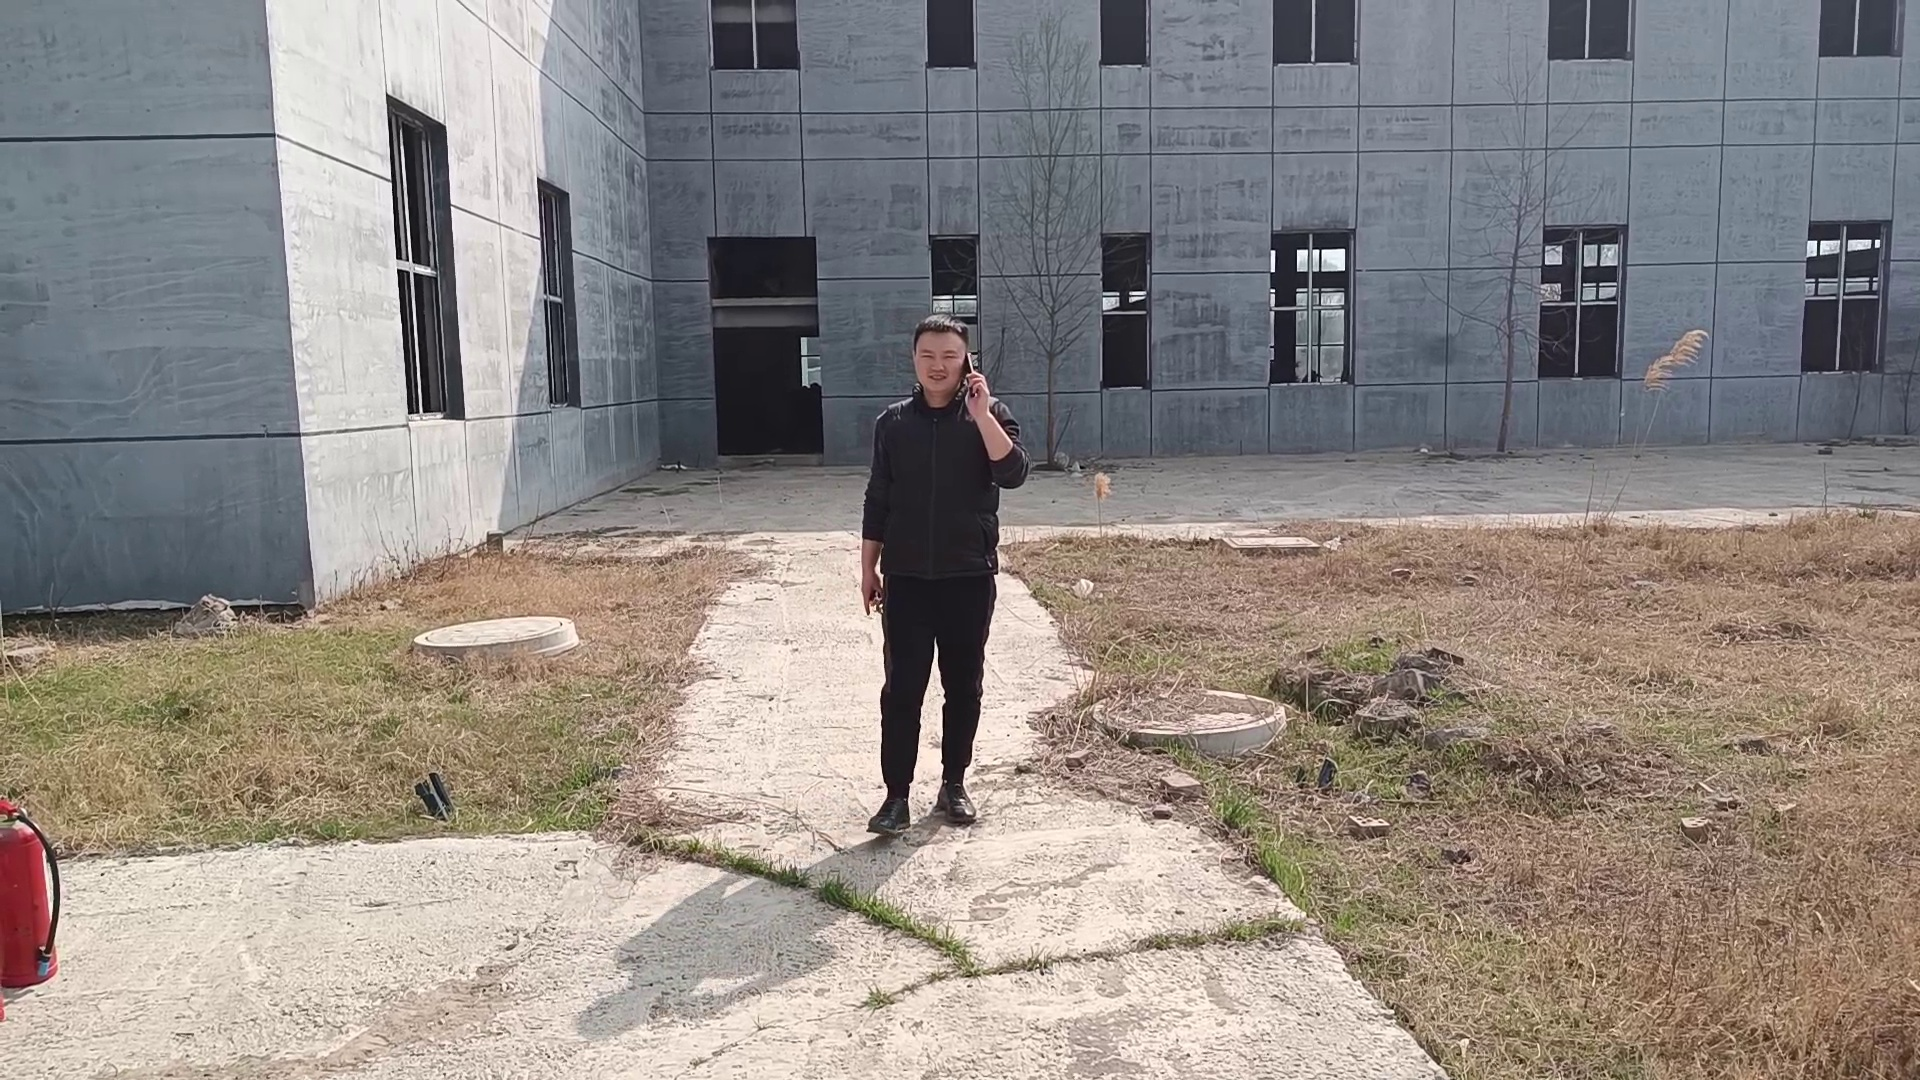phone: (905, 313, 992, 413)
